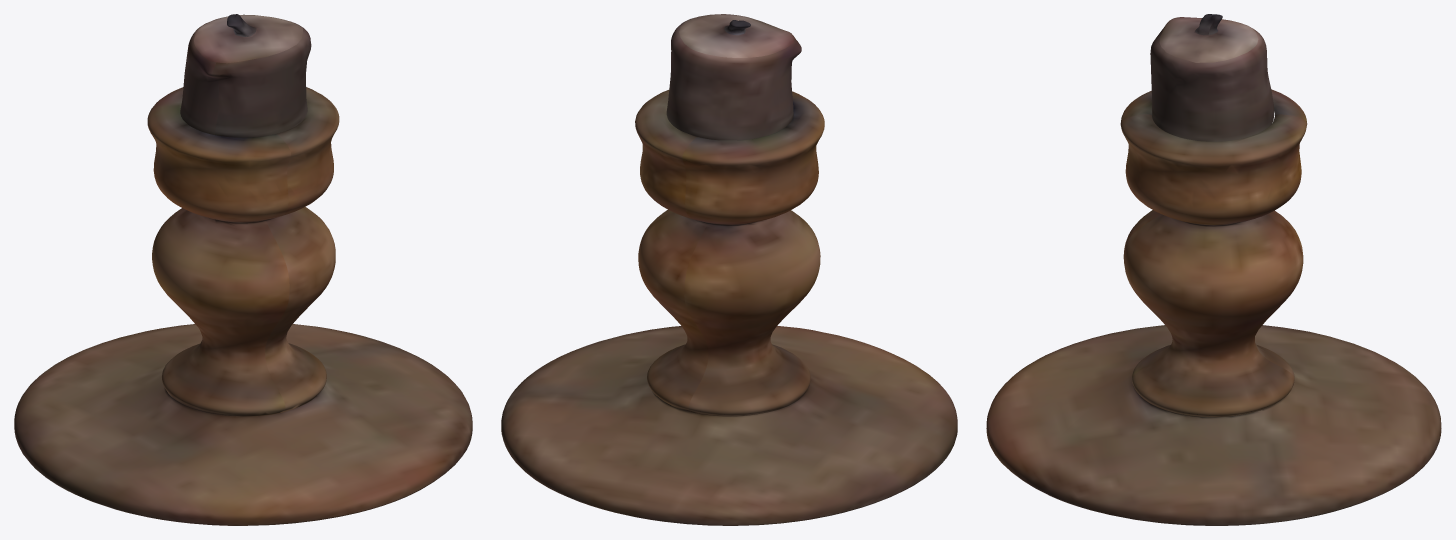
File: ph-wooden-candlestick.glb
The picture shows the model from 3 angles, left to right: view 1: azimuth 30°, elevation 25°; view 2: azimuth 150°, elevation 25°; view 3: azimuth 270°, elevation 25°; orthographic projection.
Parts seen in each view (by area): view 1: wooden_candlestick; view 2: wooden_candlestick; view 3: wooden_candlestick.
Boxes of the visible parts, bbox=[...] form: wooden_candlestick: bbox=[14, 14, 472, 525]; wooden_candlestick: bbox=[501, 14, 957, 525]; wooden_candlestick: bbox=[986, 14, 1441, 525].
Bounding box in the file's own units: 0.9993 × 0.9999 × 0.9994.
1 material, 1 textured.
